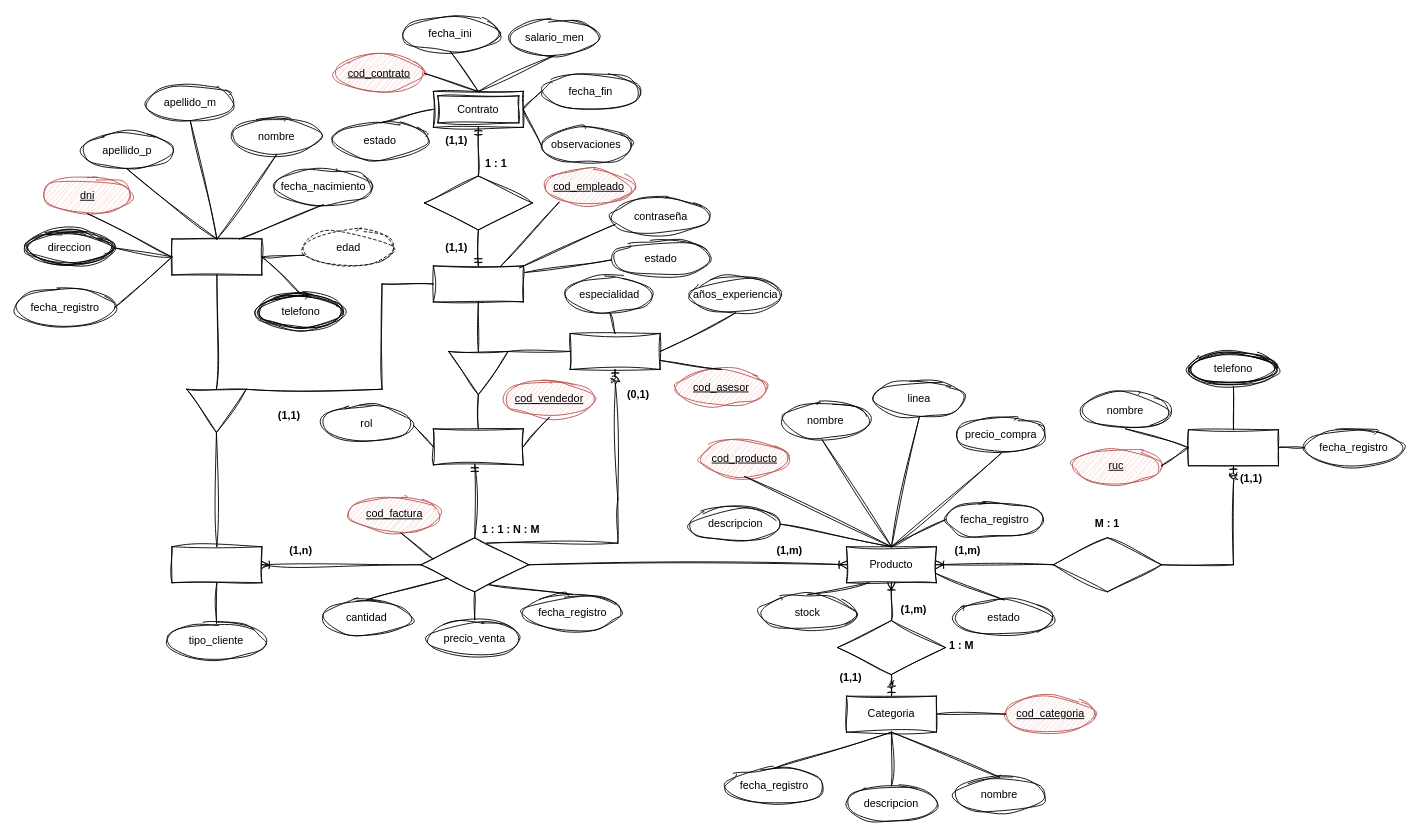
Image size: 1419x838. Some labels were removed from this diagram. Each missing label, with the centre of its shape:
"Asesor" belongs at [614,351].
"Cliente" belongs at [216,564].
"Empleado" belongs at [477,283].
"Persona" belongs at [216,256].
"Pertenece" belongs at [891,647].
"Posee" belongs at [477,202].
"Proveedor" belongs at [1233,447].
"Solicita" belongs at [474,564].
"Suministra" belongs at [1107,564].
"Vendedor" belongs at [477,446].
